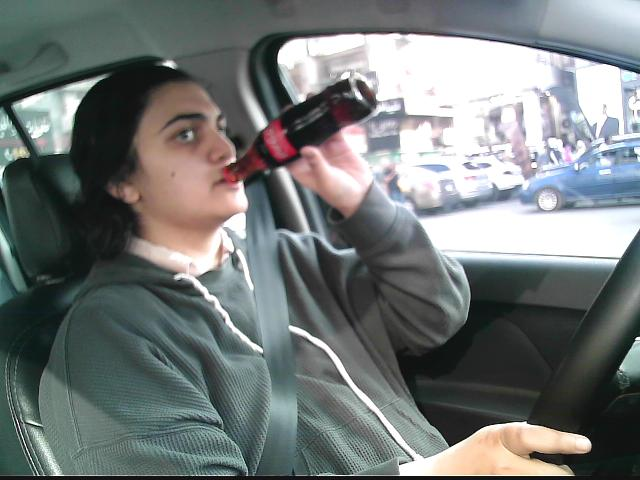Drinking: (104, 70, 376, 227)
